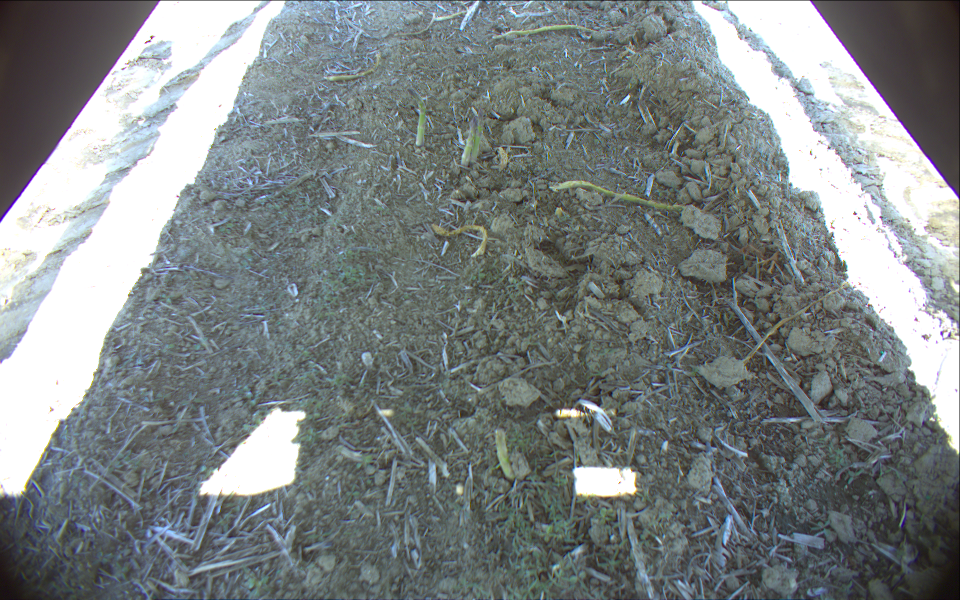aspa: (402, 81, 428, 148), (469, 106, 488, 167), (459, 110, 476, 167)
